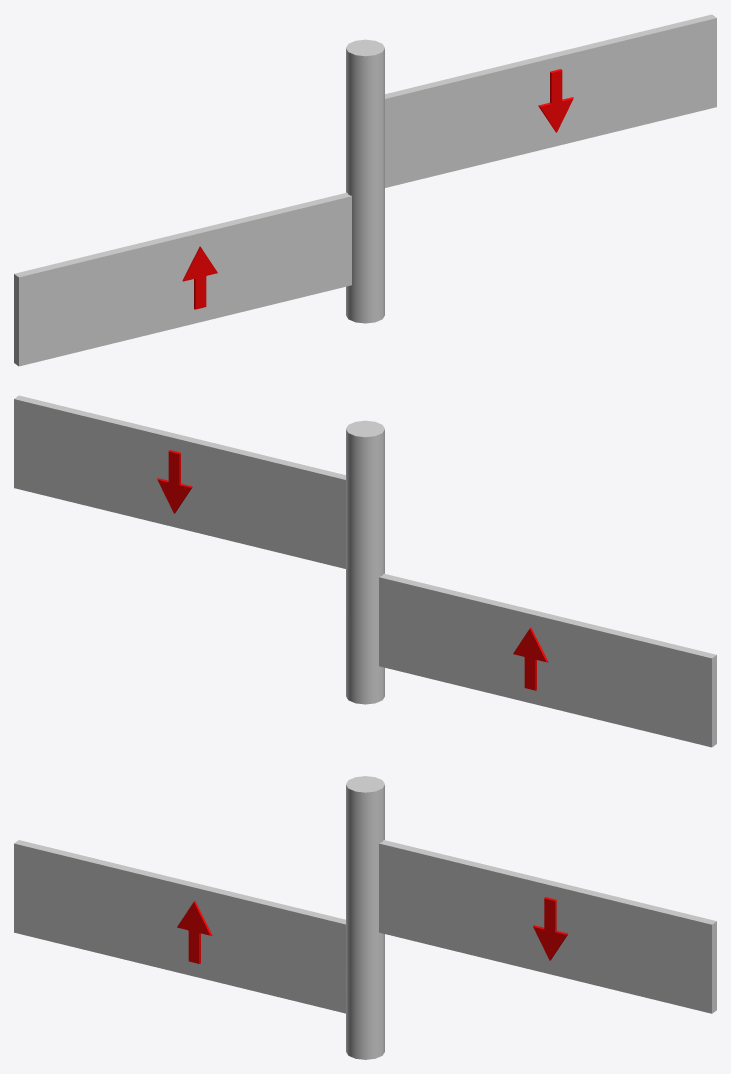
Rendered from obstacle_04.glb.
3 views of the same model, one above another, from view 1: azimuth 30°, elevation 25°; view 2: azimuth 150°, elevation 25°; view 3: azimuth 330°, elevation 25° (orthographic).
Parts seen in each view (by area): view 1: Cylinder001, arrow002, arrow001; view 2: Cylinder001, arrow002, arrow001; view 3: Cylinder001, arrow002, arrow001.
Boxes of the visible parts, x1,y1,x2,y2 form: Cylinder001: [14, 14, 716, 366]; arrow002: [538, 69, 573, 132]; arrow001: [182, 246, 217, 309]; Cylinder001: [14, 395, 716, 747]; arrow002: [157, 450, 192, 513]; arrow001: [513, 627, 548, 690]; Cylinder001: [14, 776, 716, 1059]; arrow002: [533, 897, 567, 960]; arrow001: [177, 901, 212, 963].
Size of the model in its own units: 4.1 by 1.5 by 0.2.
